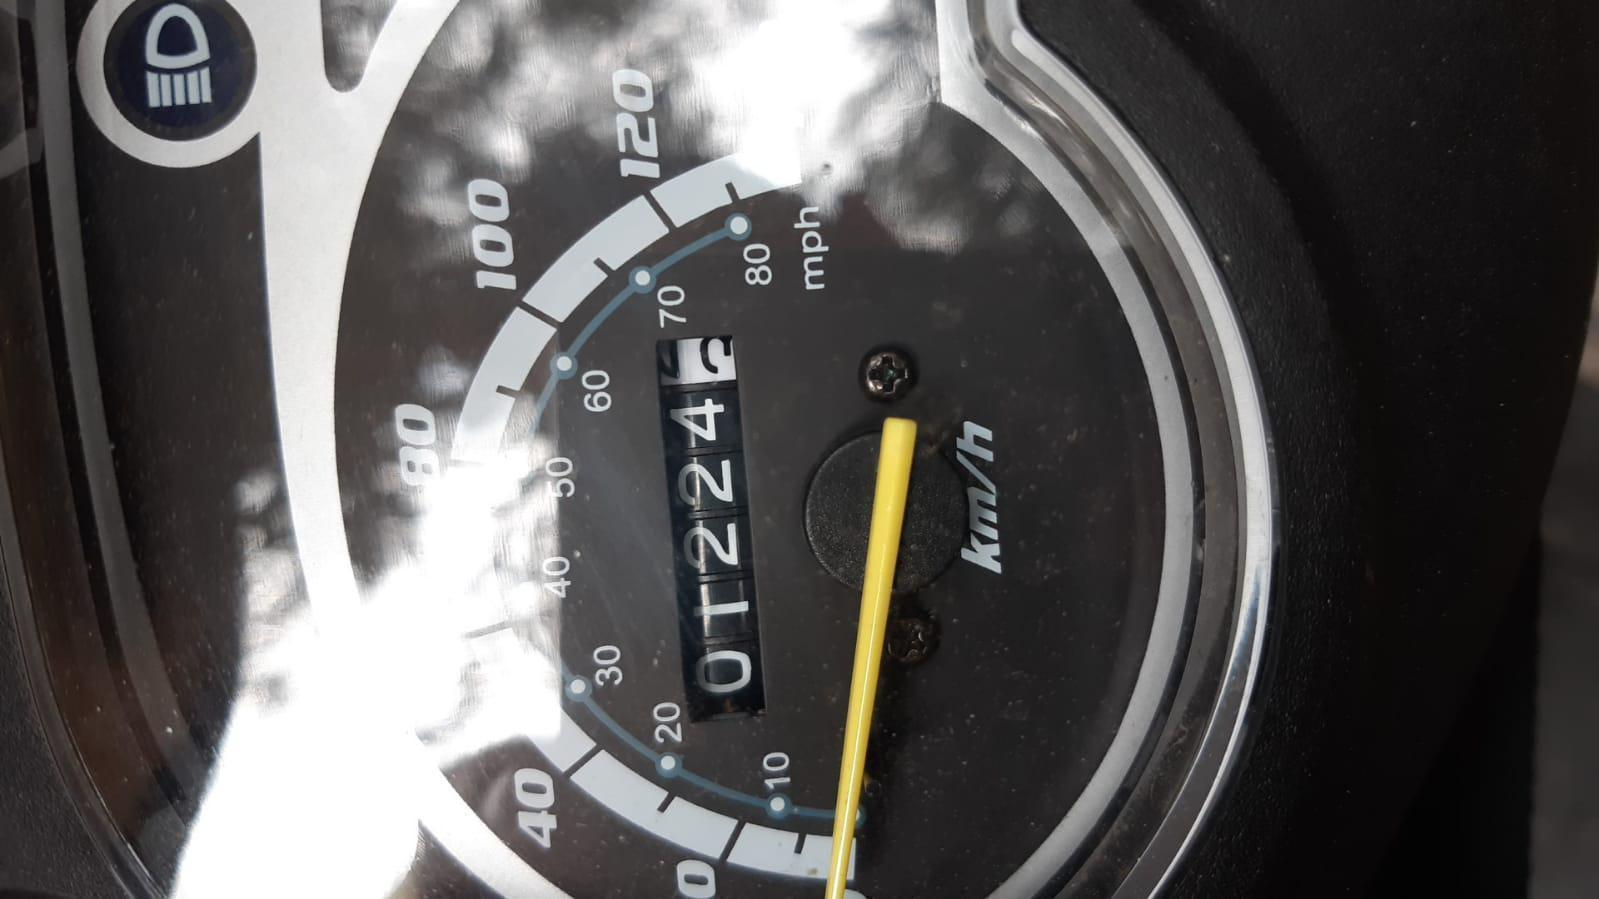0: (687, 648, 760, 696), (650, 700, 683, 720)
1: (679, 595, 758, 623)
2: (677, 456, 742, 509), (679, 520, 745, 572)
3: (698, 331, 756, 373)
4: (666, 393, 727, 443)
odometer: (637, 329, 791, 724)
